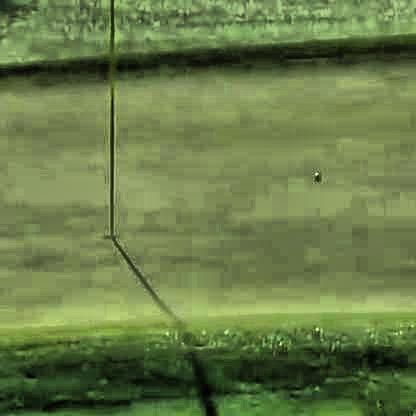golfball: (310, 167, 317, 177)
